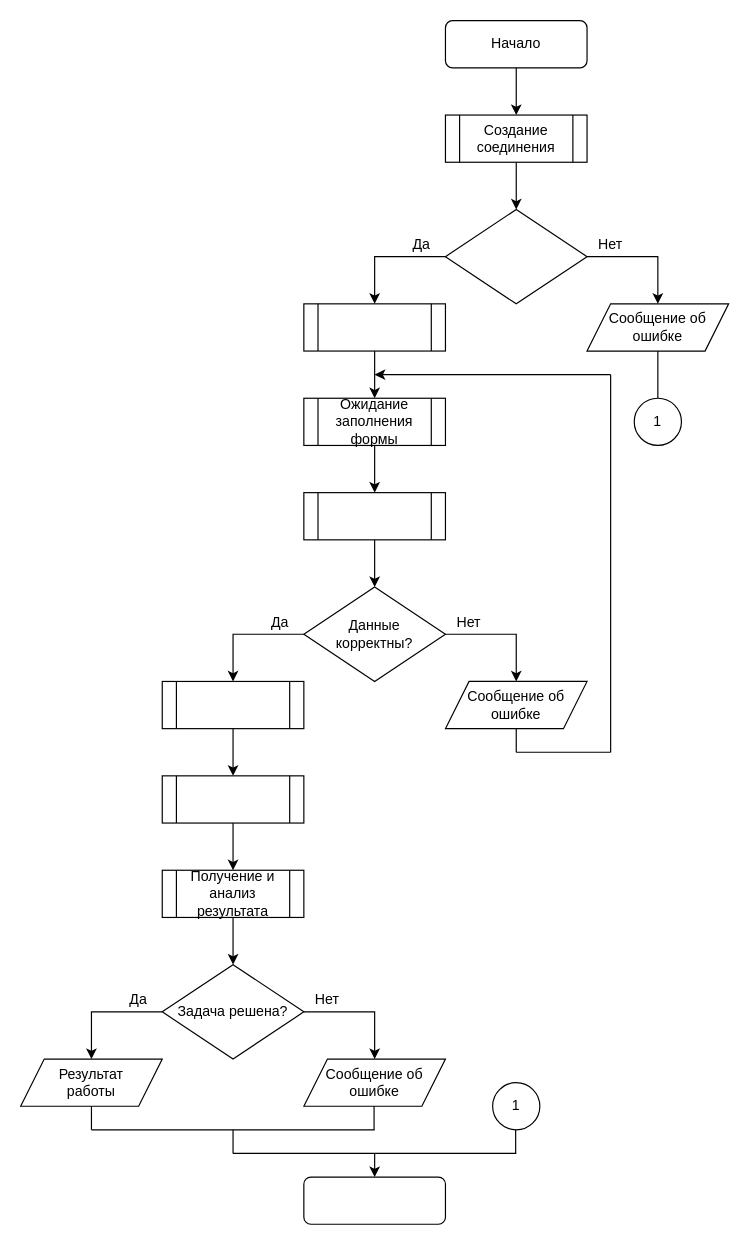
This 749x1245 diagram has some shape labels left out. Each missing label, with the centre of its shape:
Выбор операции: point 374,327
Конец: point 374,1200
Ожидание окончания обработки: point 232,799
Пересылка данных: point 232,704
Сбор данных: point 374,515
Соединение установлено?: point 515,256
